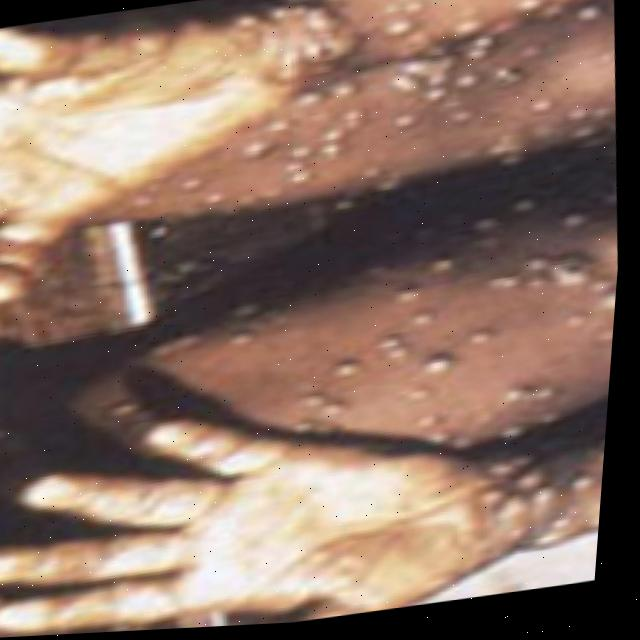Eczema: (190, 0, 623, 585)
